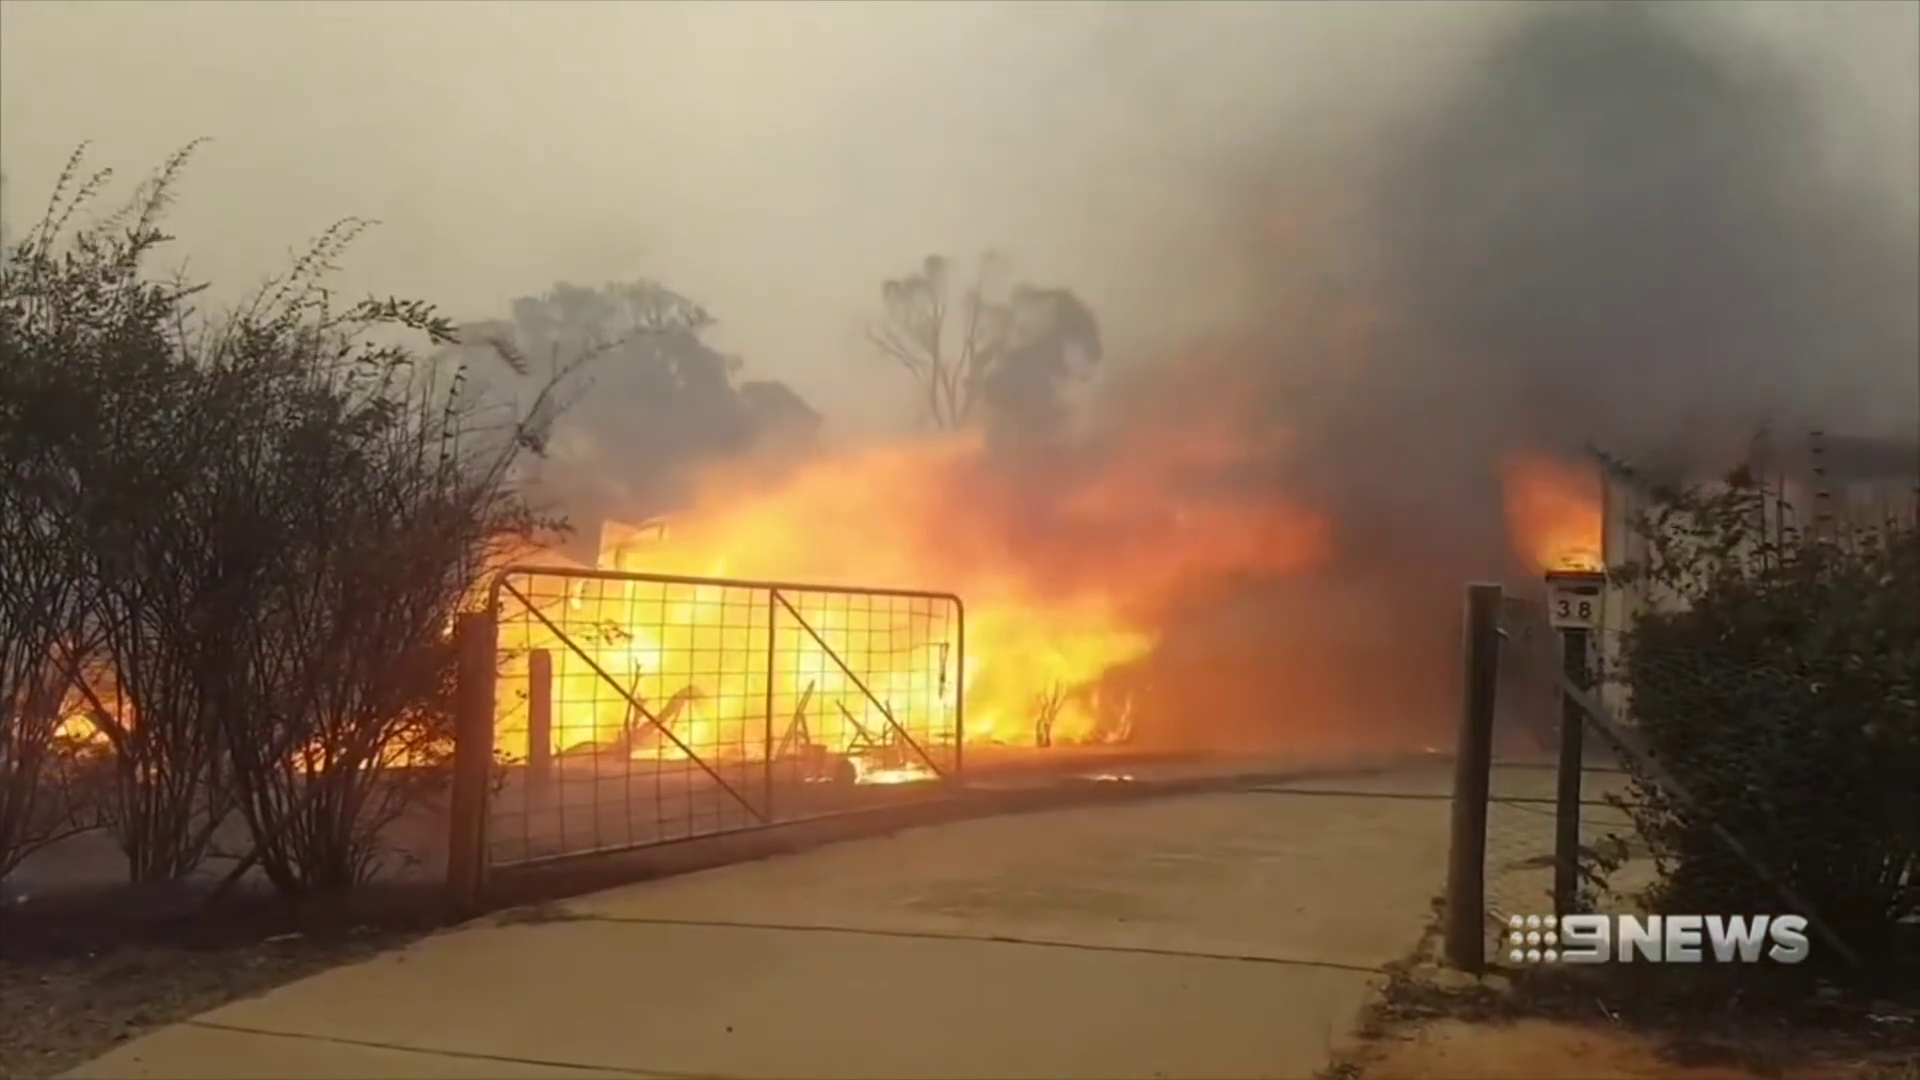fire: (571, 594, 885, 729), (61, 719, 96, 735)
